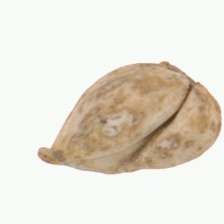L1: (157, 60, 222, 112), (35, 143, 82, 170)
L2: (37, 60, 221, 175)
